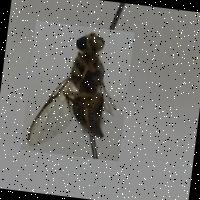Oriental-fruit-fly: (21, 20, 134, 160)
